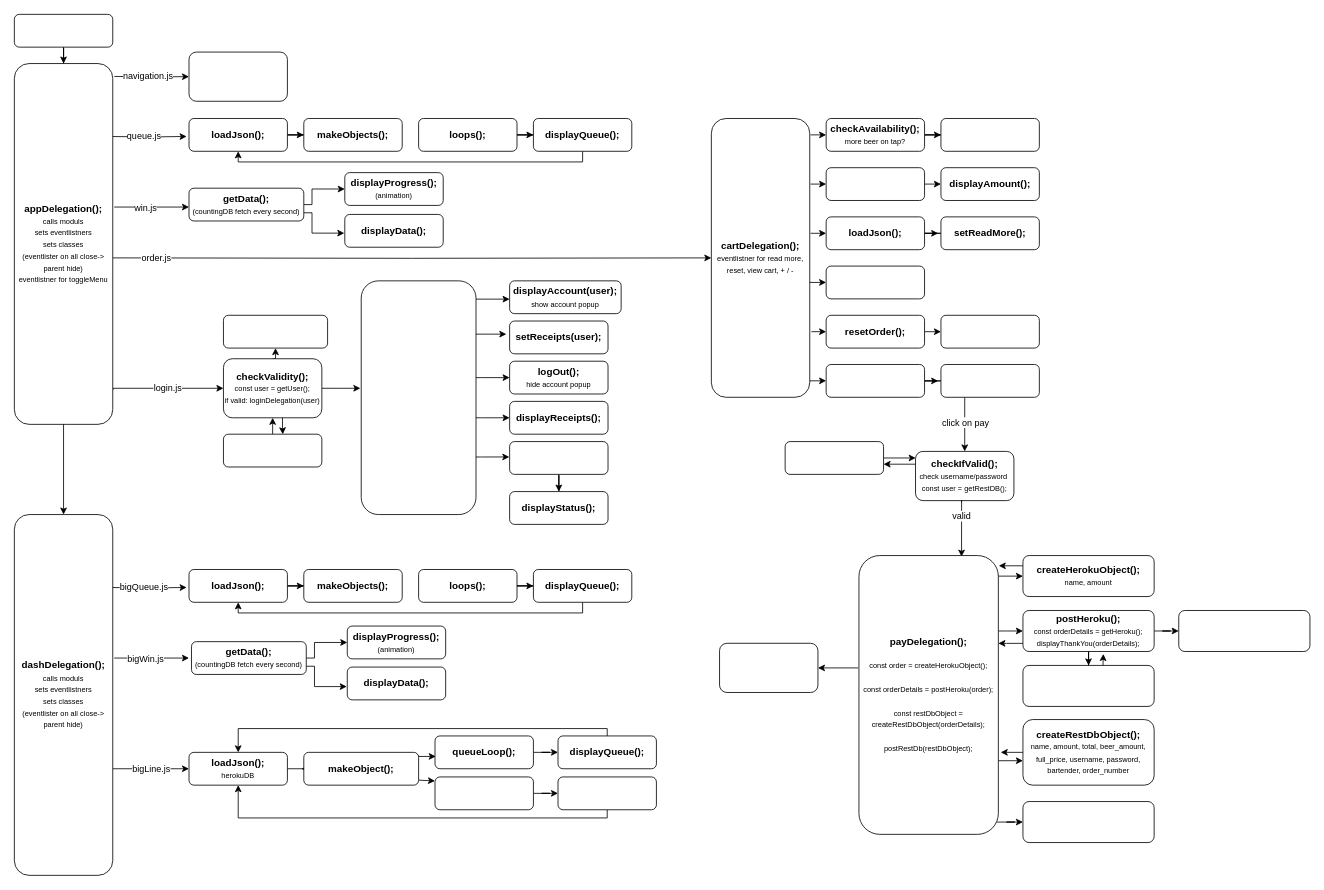
The diagram is 1324 pixels wide and 890 high, and some of its shapes have lost their labels. Here are the shapes that lost their labels. From the top down, the box of each, then its label:
(14, 14, 113, 47): DOMContentLoaded
(188, 51, 287, 101): toggleMenu(); toggles slide
(940, 118, 1039, 151): displayDisabled();
(825, 167, 925, 200): setAmount(); on + / -
(825, 265, 925, 299): displayReadMore();
(223, 314, 328, 348): displayError();
(940, 314, 1039, 348): displayReset();
(360, 280, 476, 515): loginDelegation(user); showAccount(user); setReceipts(user)
(825, 364, 925, 397): setSummary(); (forEach createElement)
(940, 364, 1039, 397): displaySummary();
(223, 433, 322, 467): getUser(); restDB
(509, 441, 608, 474): getStatus();
(784, 441, 884, 474): getRestDb();
(1178, 610, 1310, 651): displayThankYou(); show order number + bartender
(719, 642, 818, 692): updateCounter(); put beer bought
(1022, 665, 1154, 706): getHeroku(); find order number and bartender
(434, 776, 533, 810): servedLoop();
(557, 776, 656, 810): displayServed();
(1022, 801, 1154, 843): postRestDb(restDbObject);
